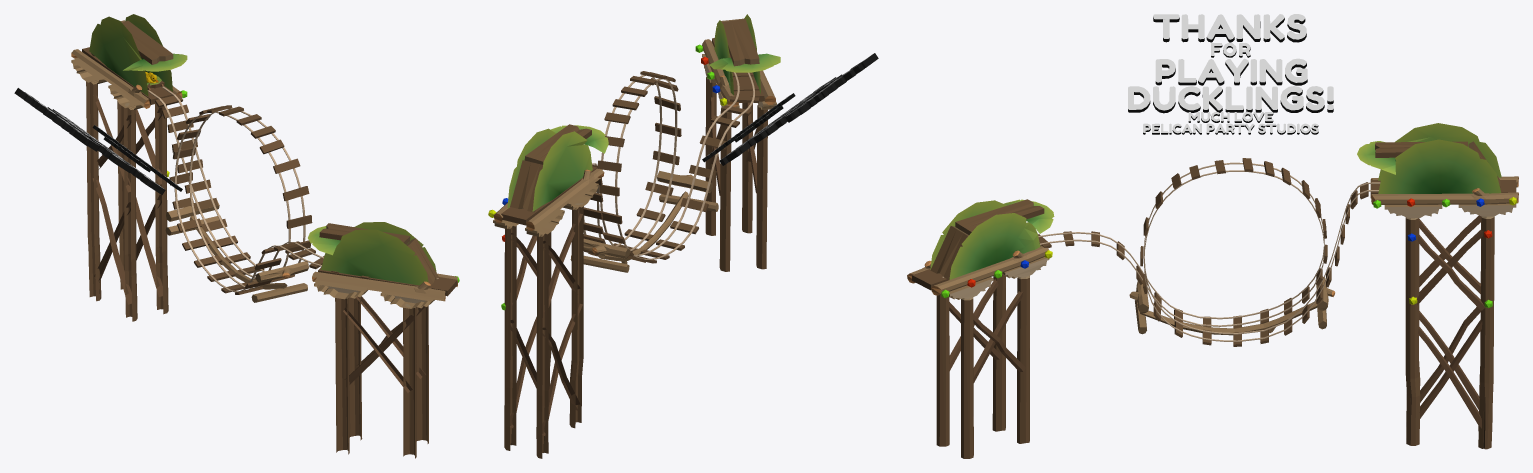
3 renders of one model, left to right at view 1: azimuth 30°, elevation 25°; view 2: azimuth 150°, elevation 25°; view 3: azimuth 270°, elevation 25°, orthographic. The views are drawn at different scales.
Parts seen in each view (by area): view 1: nestStage_33; view 2: nestStage_33; view 3: nestStage_33.
Part boxes in pixels (bbox=[...]): nestStage_33: bbox=[14, 14, 459, 458]; nestStage_33: bbox=[488, 14, 878, 458]; nestStage_33: bbox=[907, 14, 1518, 458].
Size of the model in its own units: 4.61 by 5.03 by 8.39.
